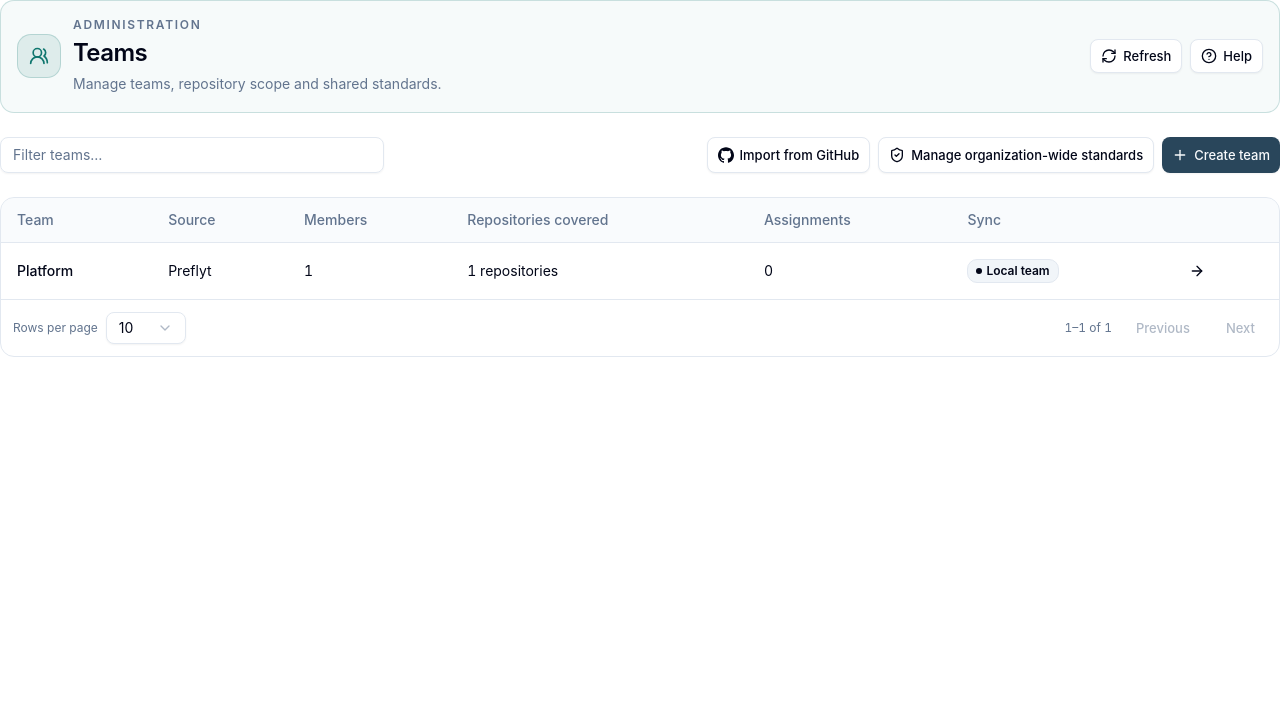
Scenario: disables assignment when preview reports conflicting requirements
The image size is (1280, 720).
Click the button "Platform" at {"x": 45, "y": 271}, box 17,261 -> 73,281
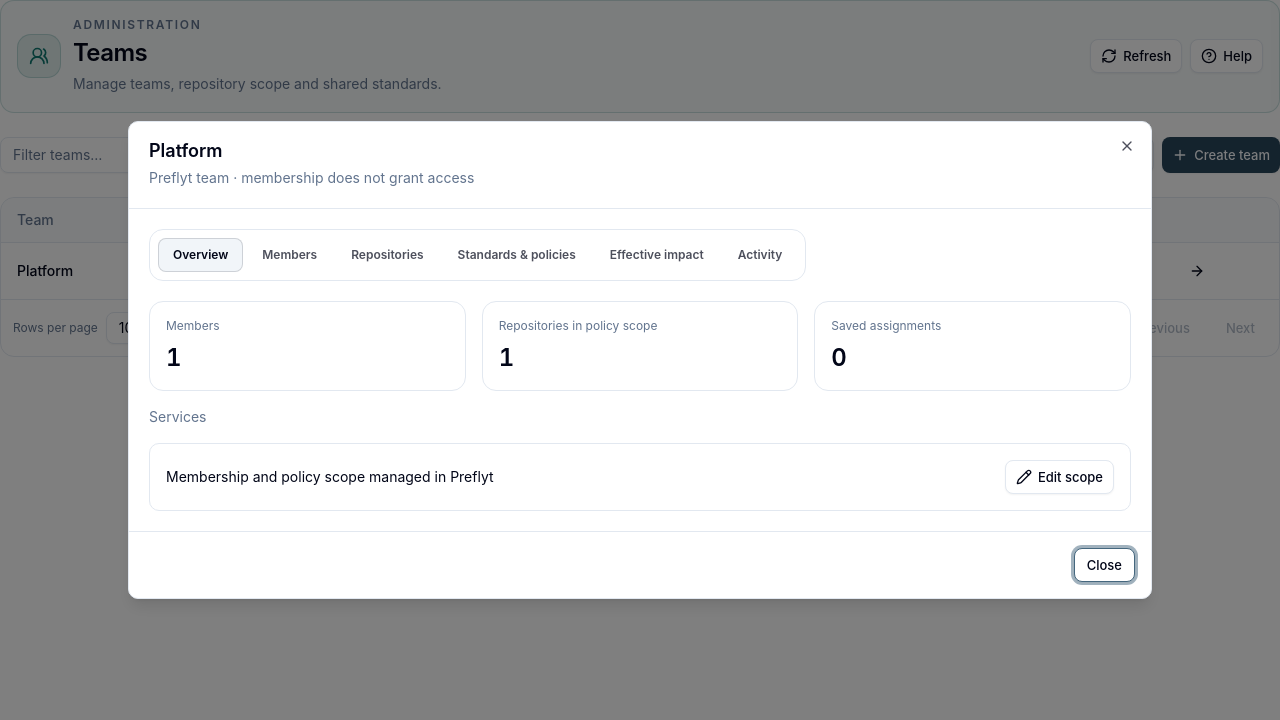
Click the tab "Standards & policies" at {"x": 517, "y": 255}, box 443,238 -> 591,272
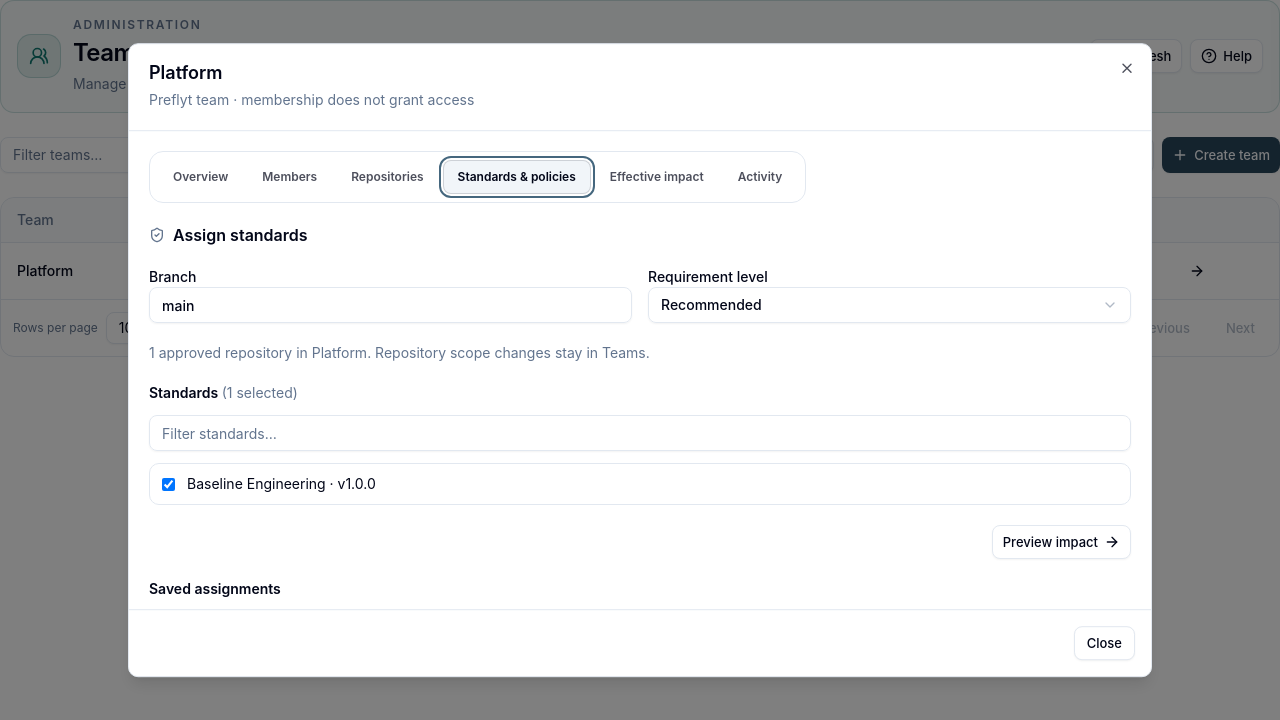
Click the button "Preview impact" at {"x": 1061, "y": 542}, box 992,525 -> 1131,559
(page scrolled)
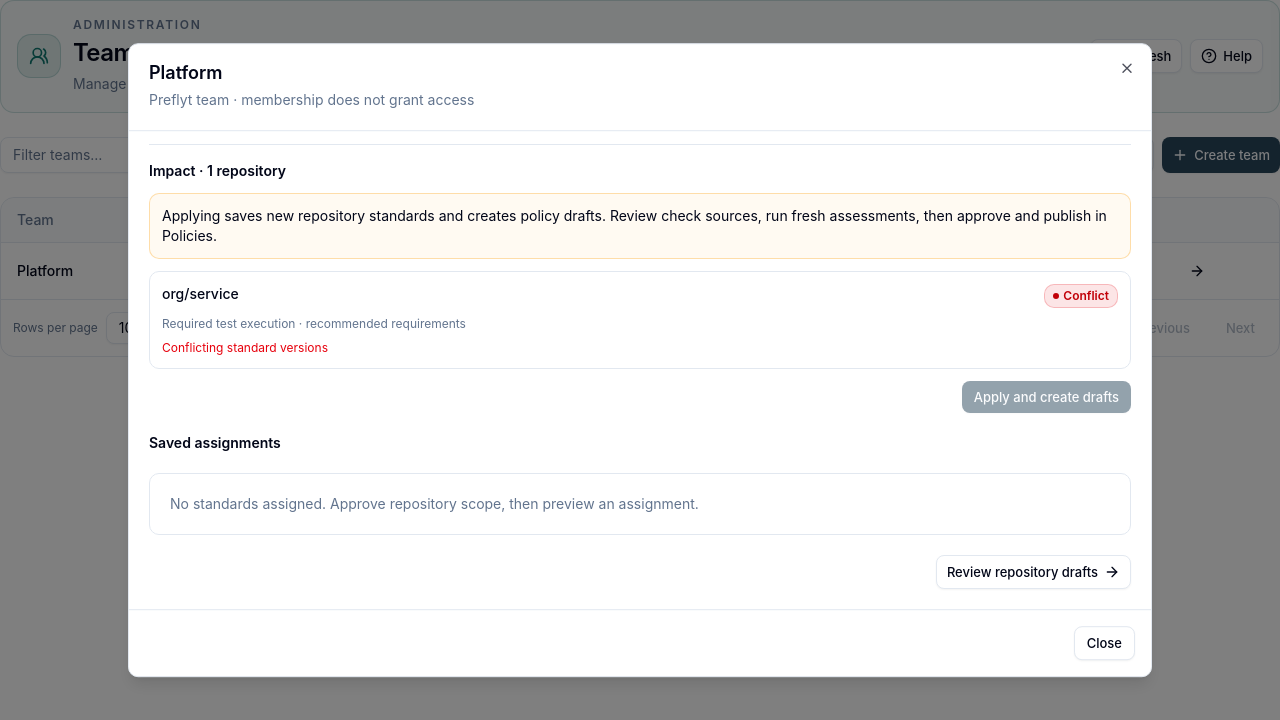
Now the text "Conflicting standard versions" is shown, box 162,340 -> 328,355
Now the button "Apply and create drafts" is disabled, box 962,381 -> 1131,413
